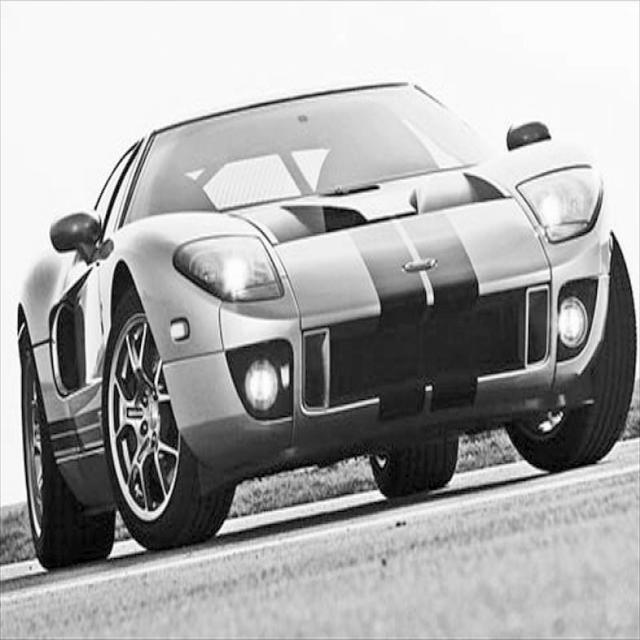car: (15, 78, 636, 571)
